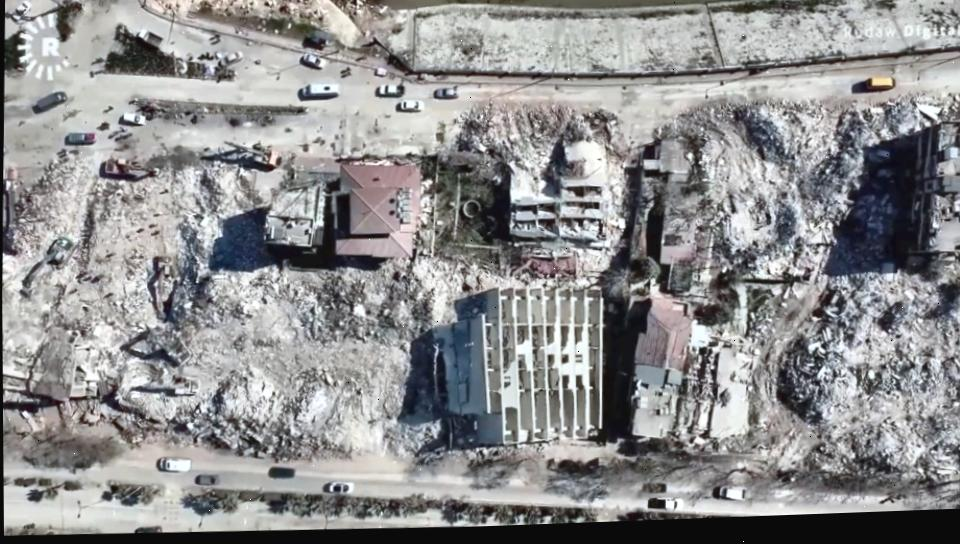kapali: (643, 70, 854, 151), (427, 82, 640, 154)
